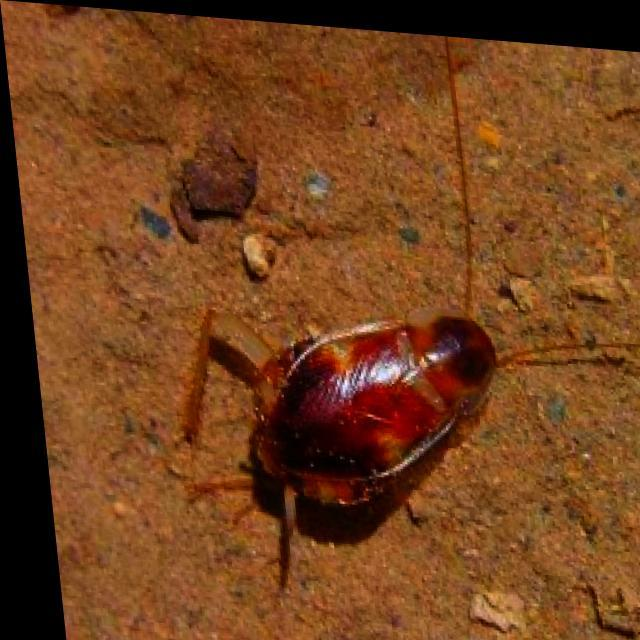cockroach: (149, 289, 539, 552)
